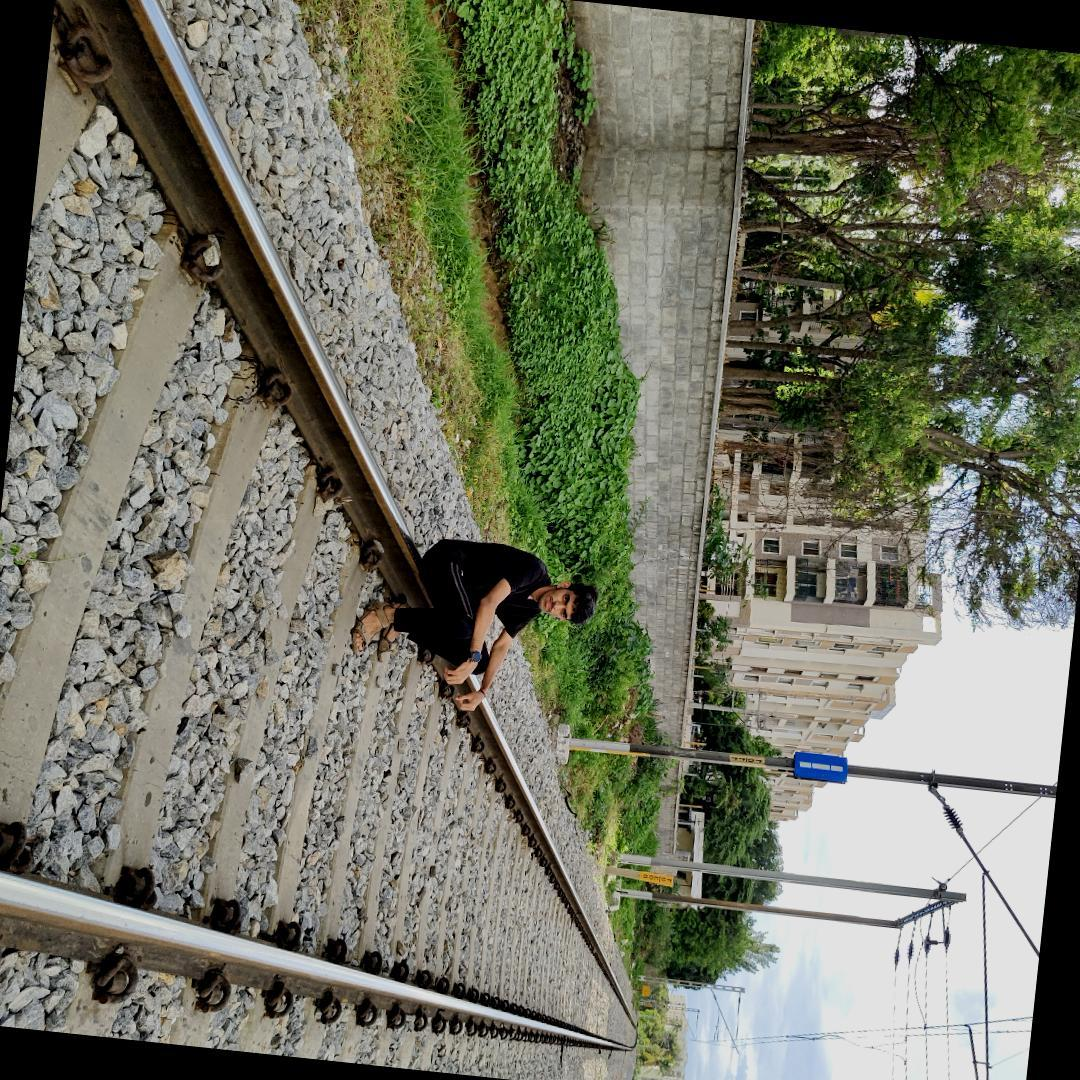sitting: (353, 523, 617, 728)
